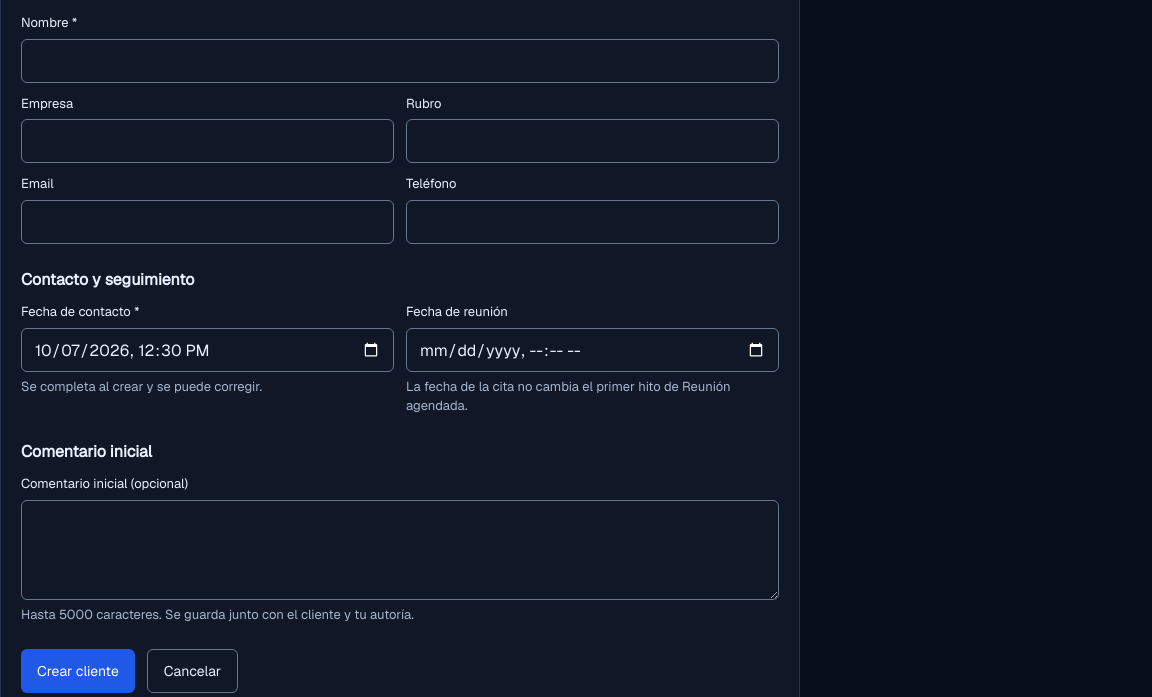
it: approved client form interaction › does not navigate an unconfirmed conflict outcome
The width and height of the screenshot is (1152, 697).
(page scrolled)
Click the button "Crear cliente" at (78,671), box [21,649,135,693]
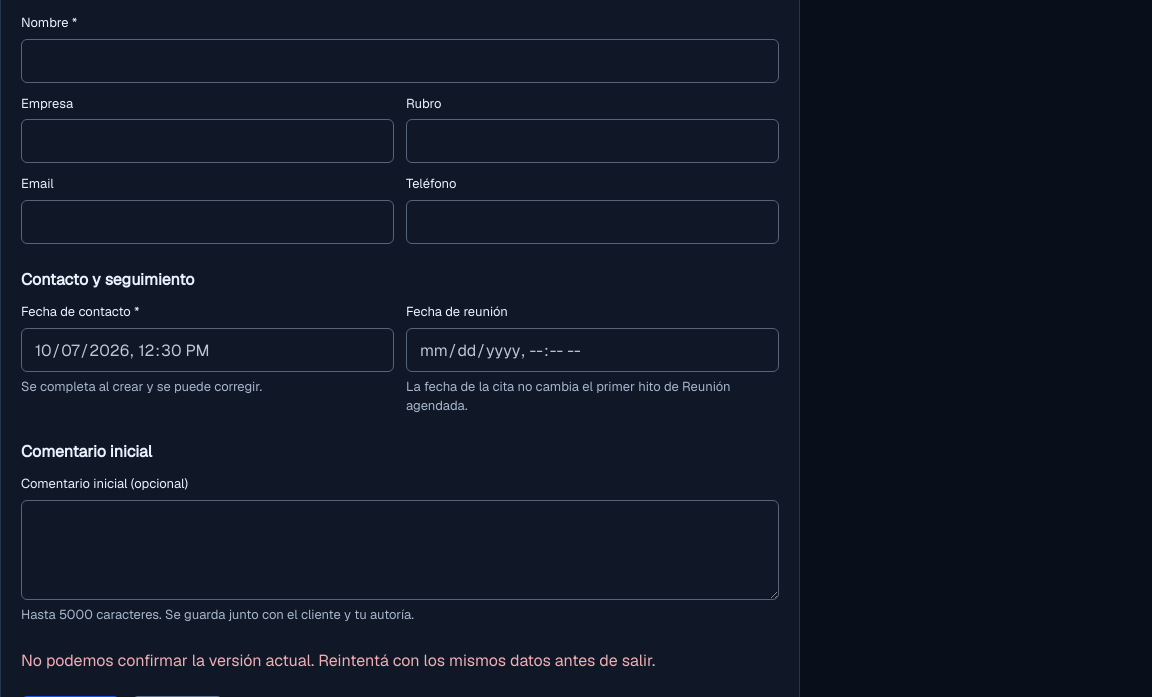
expect the message is shown: met, box [21,650,655,671]
